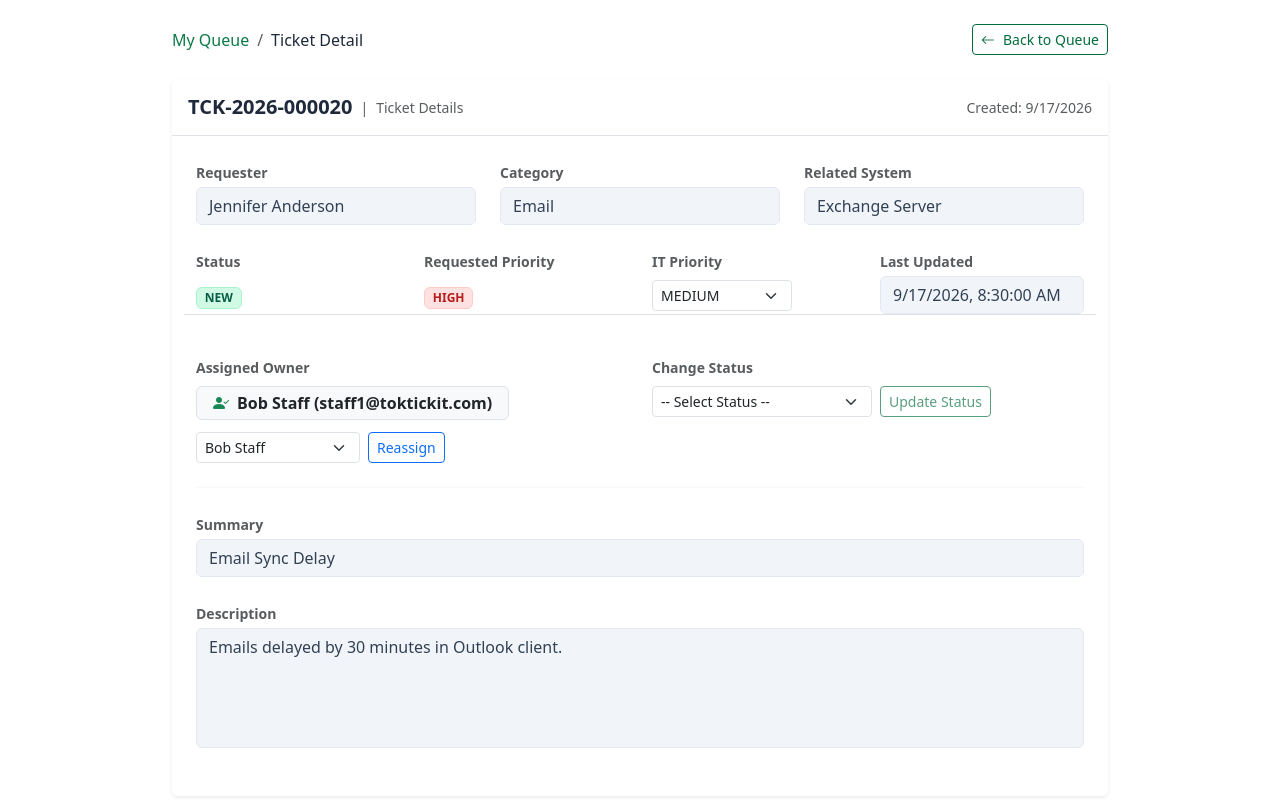
Test case: TicketDetailPage - IT Staff Operations (Lab 3 UI-20 to UI-26) › UI-21 / AC-09: allows IT Staff to reassign ticket to another staff user
This screenshot has width=1280, height=800.
Expected: the heading "TCK-2026-000020" is shown, x1=188 y1=95 x2=352 y2=119
Select Alice Staff (id 11)
Select "Alice Staff" in the dropdown named "reassign owner" at (278, 448), box x1=196 y1=432 x2=360 y2=463
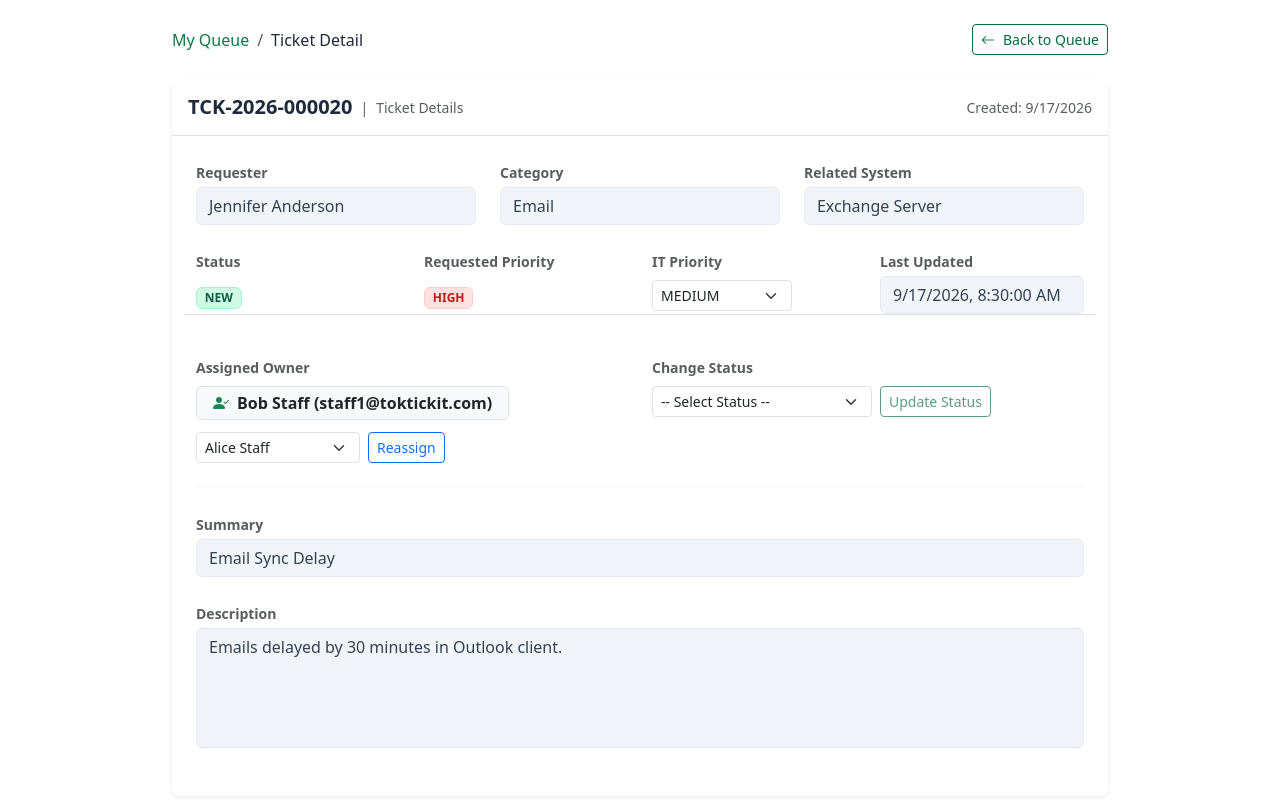
Click the button "Reassign" at (406, 448), box x1=368 y1=432 x2=445 y2=463
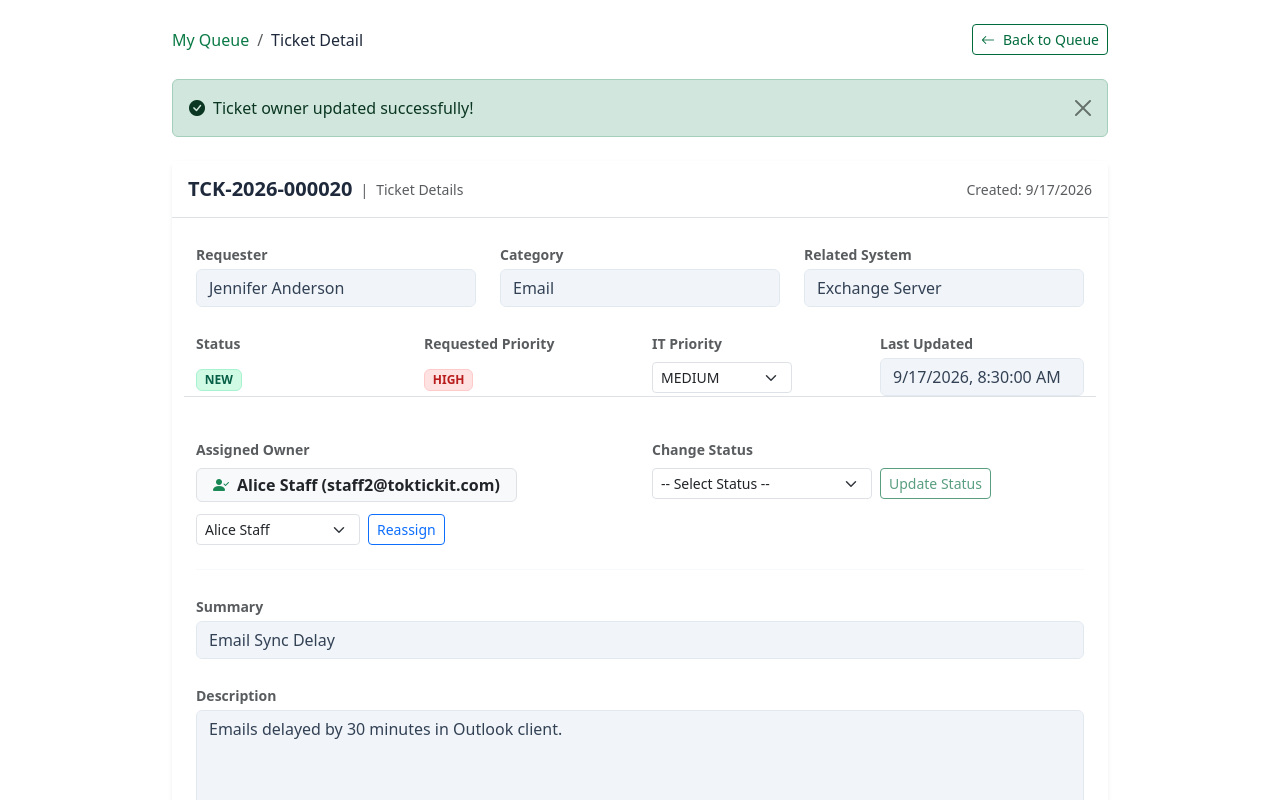
Now the text "Ticket owner updated successfully!" is shown, box x1=172 y1=79 x2=1108 y2=137
